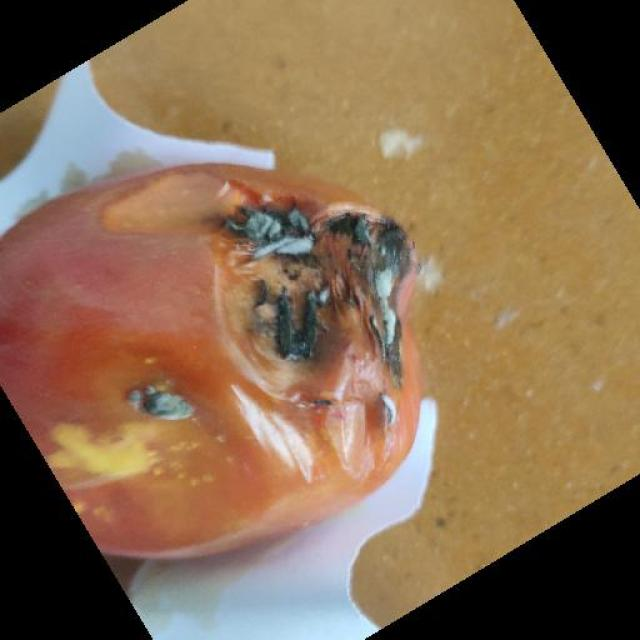Stale_tomato: (12, 149, 460, 543)
